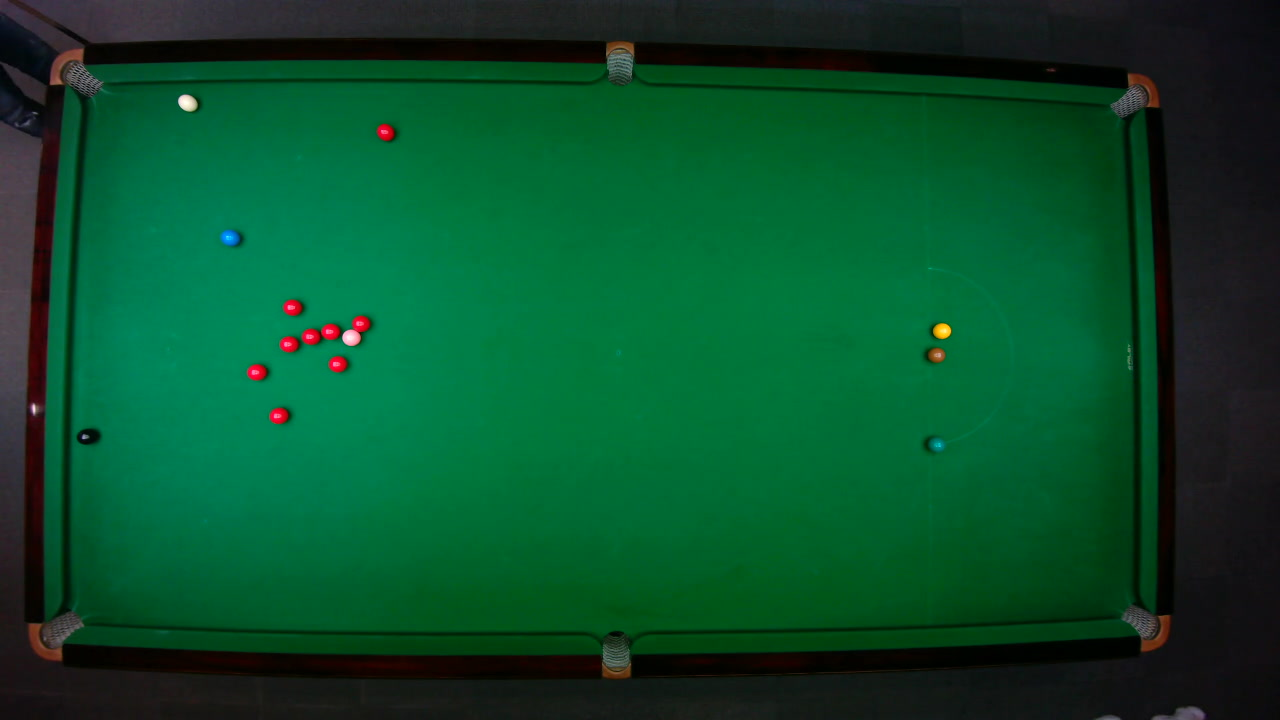bag: (26, 608, 84, 660), (47, 47, 104, 98), (1118, 603, 1171, 651), (1108, 72, 1160, 118), (601, 629, 630, 679), (605, 39, 633, 86)
black: (75, 427, 97, 445)
blue: (219, 228, 240, 246)
brown: (925, 346, 945, 362)
green: (925, 434, 945, 453)
pink: (340, 328, 362, 346)
red: (245, 362, 267, 381), (327, 354, 348, 373), (277, 334, 299, 352), (299, 327, 321, 345), (267, 406, 289, 424), (280, 298, 303, 315), (375, 122, 395, 141), (350, 314, 371, 332), (320, 322, 340, 339)
white: (176, 93, 198, 112)
yellow: (931, 321, 952, 339)
zone: (927, 265, 1013, 444)
